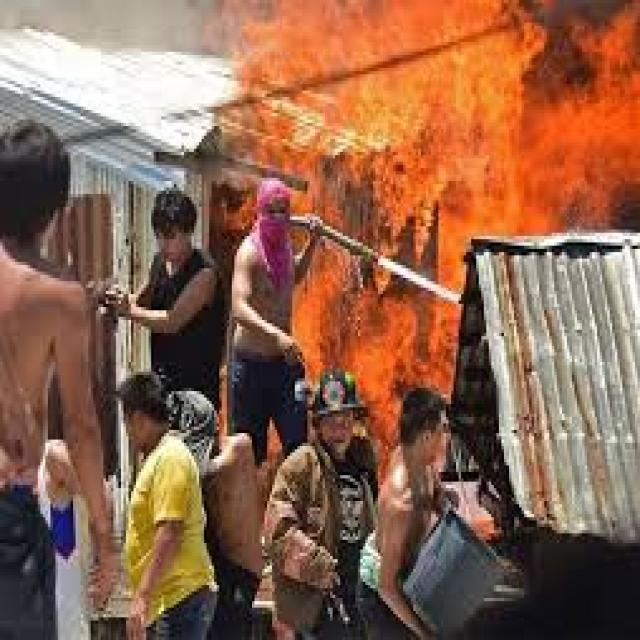Fire: (219, 3, 640, 233), (260, 208, 471, 488)
Smoke: (521, 0, 629, 106), (589, 177, 640, 245)
